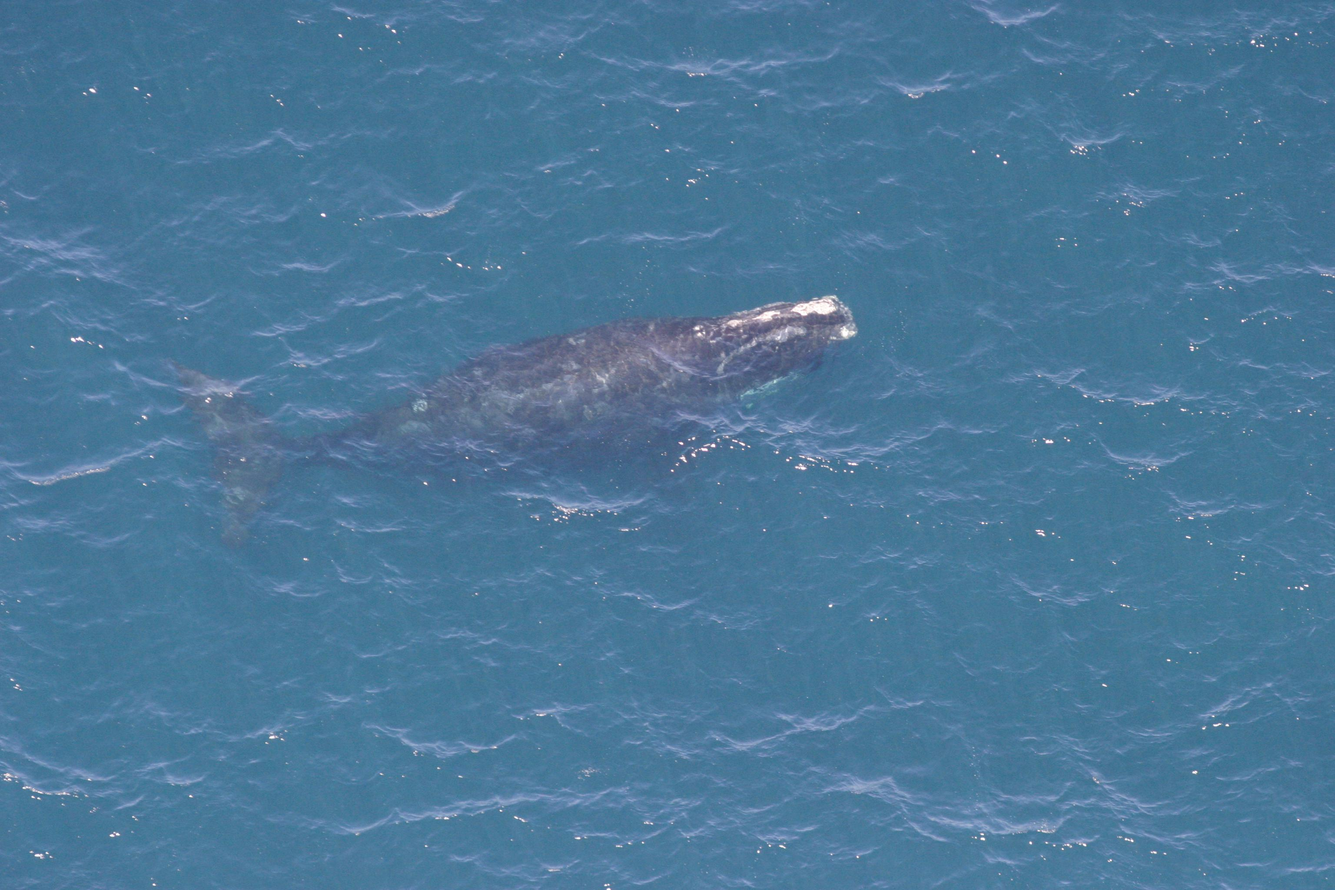whale: (146, 287, 866, 588)
